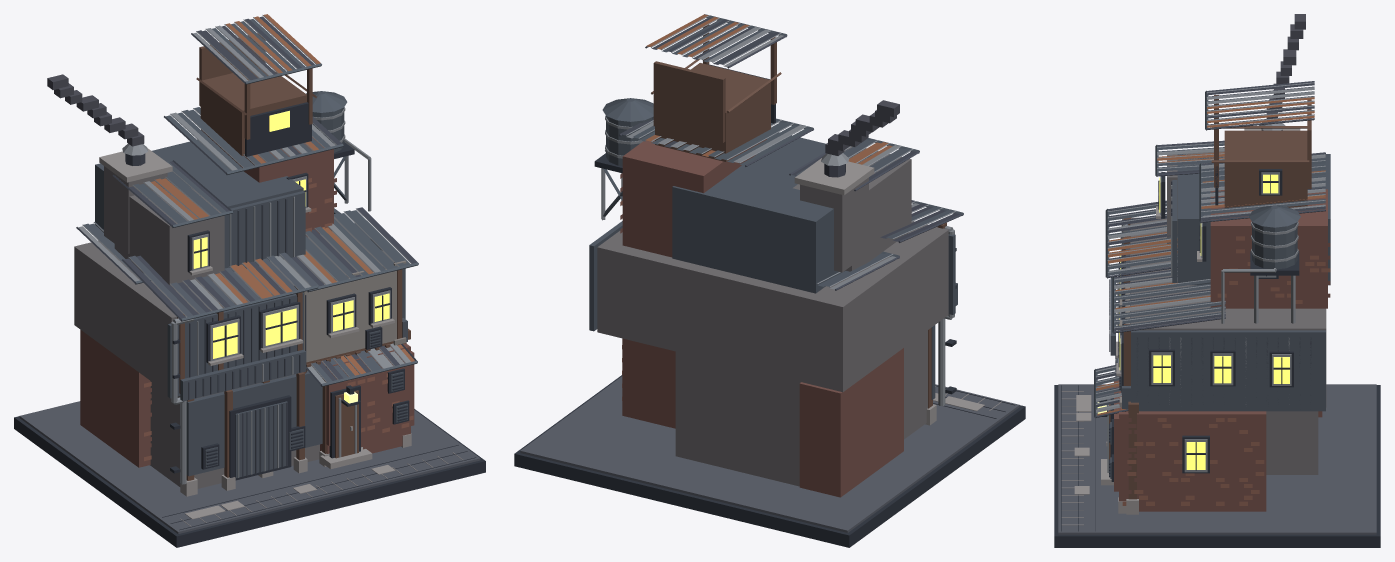
File: gotham_favela_8bit.glb
3 renders of one model, left to right at view 1: azimuth 30°, elevation 25°; view 2: azimuth 150°, elevation 25°; view 3: azimuth 270°, elevation 25°, orthographic. The views are drawn at different scales.
Parts seen in each view (by area): view 1: SM_Gotham_Favela_8bit.001; view 2: SM_Gotham_Favela_8bit.001; view 3: SM_Gotham_Favela_8bit.001.
Part boxes in pixels (bbox=[...]): SM_Gotham_Favela_8bit.001: bbox=[14, 14, 485, 547]; SM_Gotham_Favela_8bit.001: bbox=[514, 14, 1025, 547]; SM_Gotham_Favela_8bit.001: bbox=[1054, 14, 1380, 547].
Bounding box in the file's own units: 11.39 × 13.41 × 10.25.
